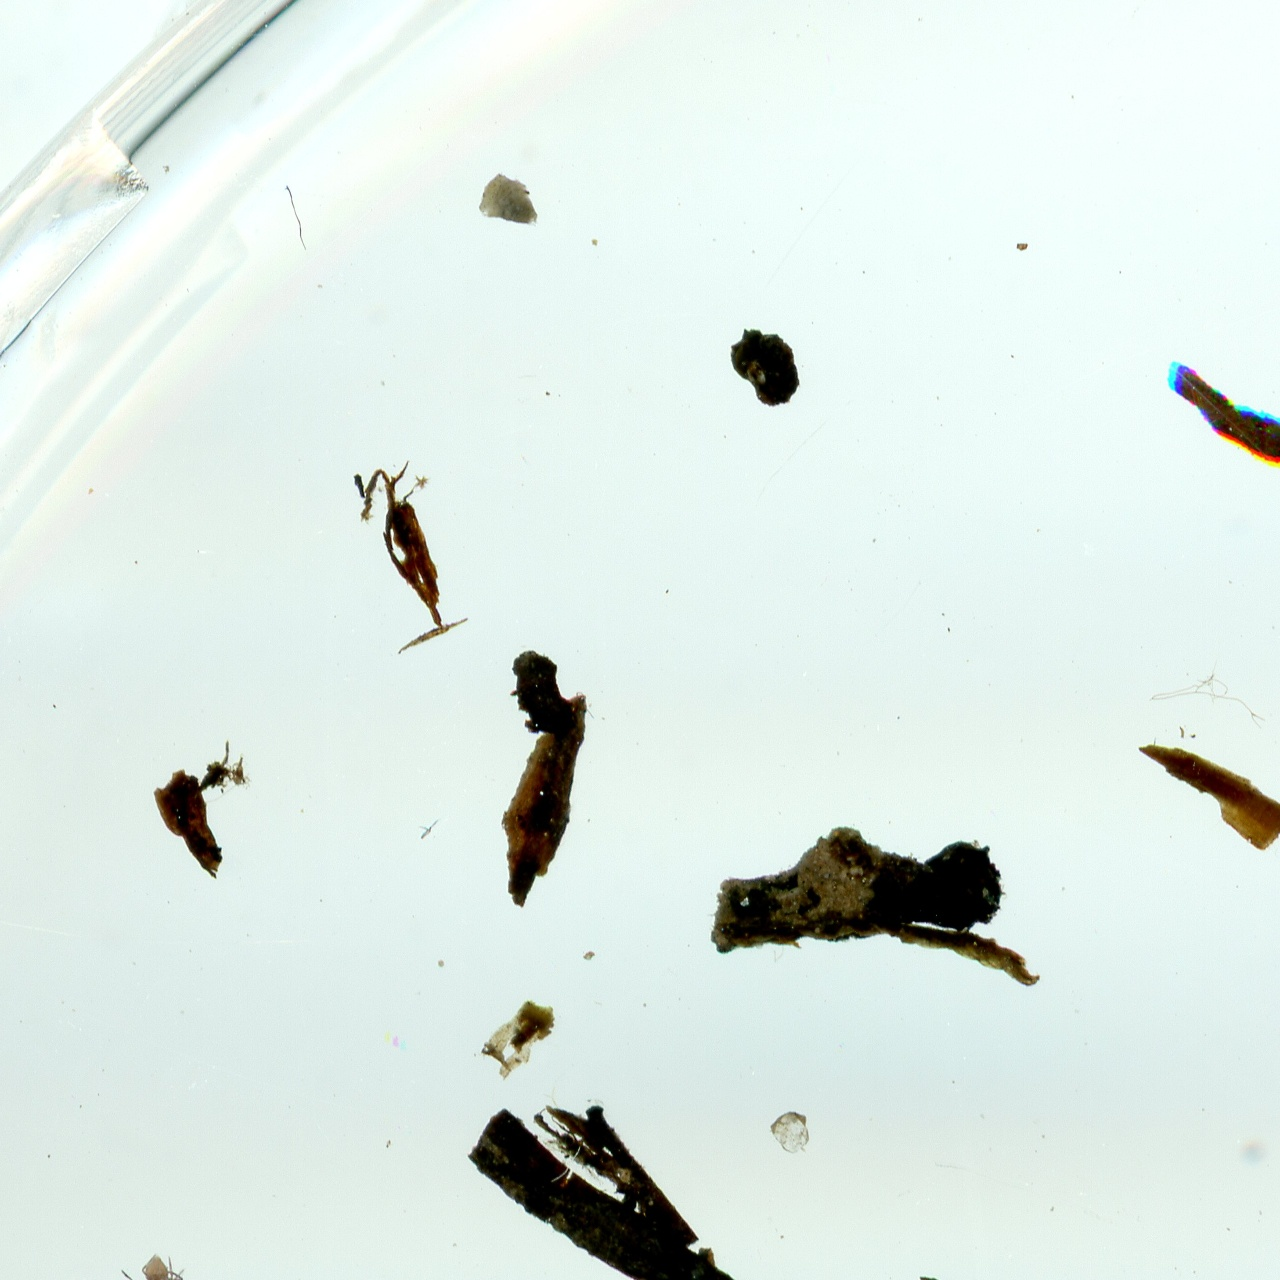arthropod: (116, 1252, 193, 1280)
